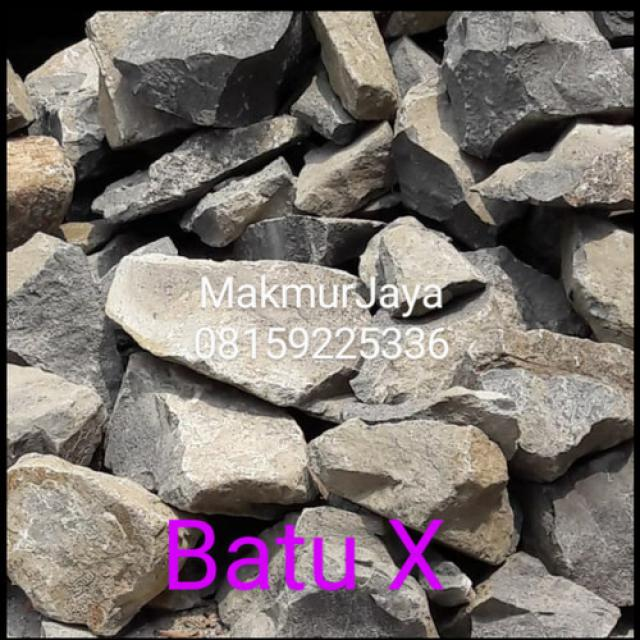Pecahan Agregat: (95, 346, 320, 524), (101, 241, 384, 377), (15, 448, 202, 626), (77, 12, 328, 130), (312, 401, 534, 532), (440, 18, 632, 138), (115, 138, 305, 258), (7, 228, 157, 377), (477, 340, 640, 472), (240, 502, 383, 639), (372, 207, 516, 330), (292, 122, 449, 224), (464, 535, 614, 640), (479, 115, 640, 212), (24, 34, 134, 143), (17, 121, 129, 226), (337, 14, 432, 125)
